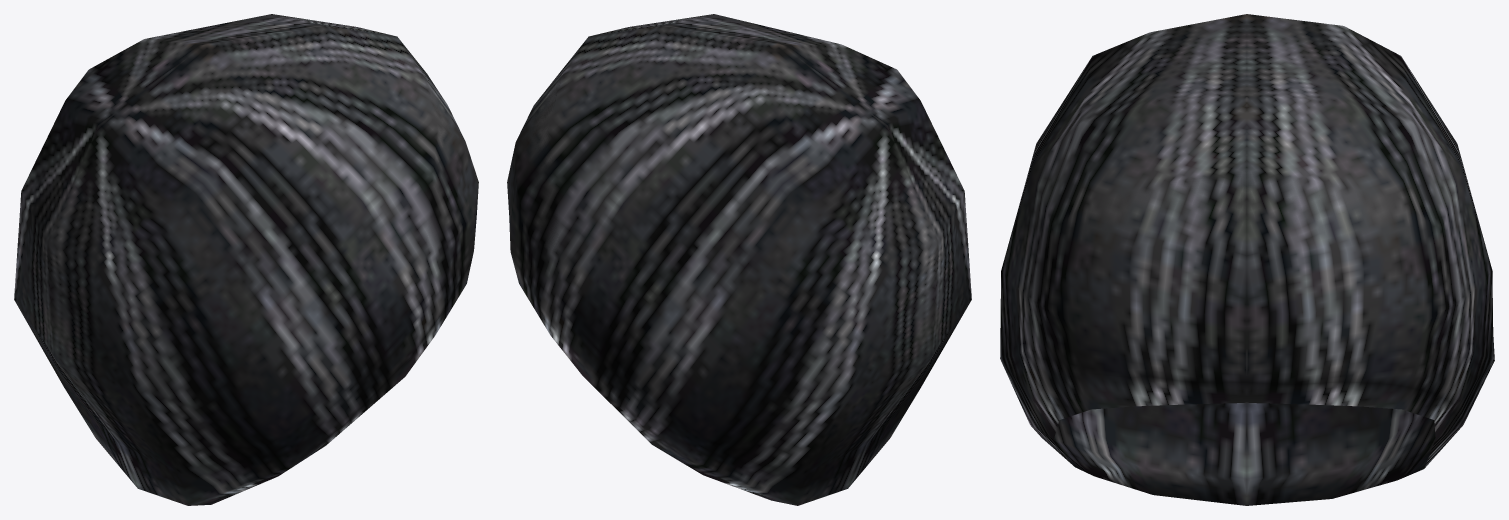
File: hat_0400038.FBX
3 views of the same model, side by side, from view 1: azimuth 30°, elevation 25°; view 2: azimuth 150°, elevation 25°; view 3: azimuth 270°, elevation 25° (orthographic). The views are drawn at different scales.
Visible parts, largest first — view 1: hat_0400038; view 2: hat_0400038; view 3: hat_0400038.
Part boxes in pixels (x1=…): hat_0400038: x1=14, y1=14, x2=478, y2=505; hat_0400038: x1=507, y1=14, x2=971, y2=505; hat_0400038: x1=1000, y1=14, x2=1494, y2=505.
Size of the model in its own units: 27.11 by 28.35 by 24.67.
